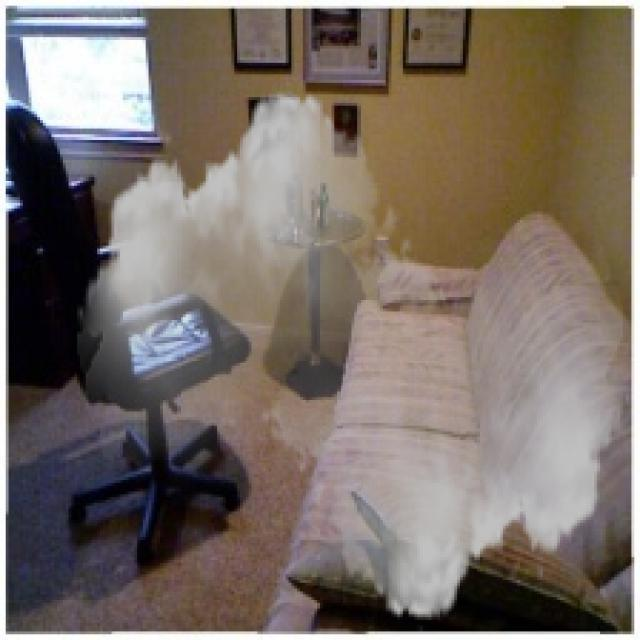Smoke: (77, 74, 632, 637)
